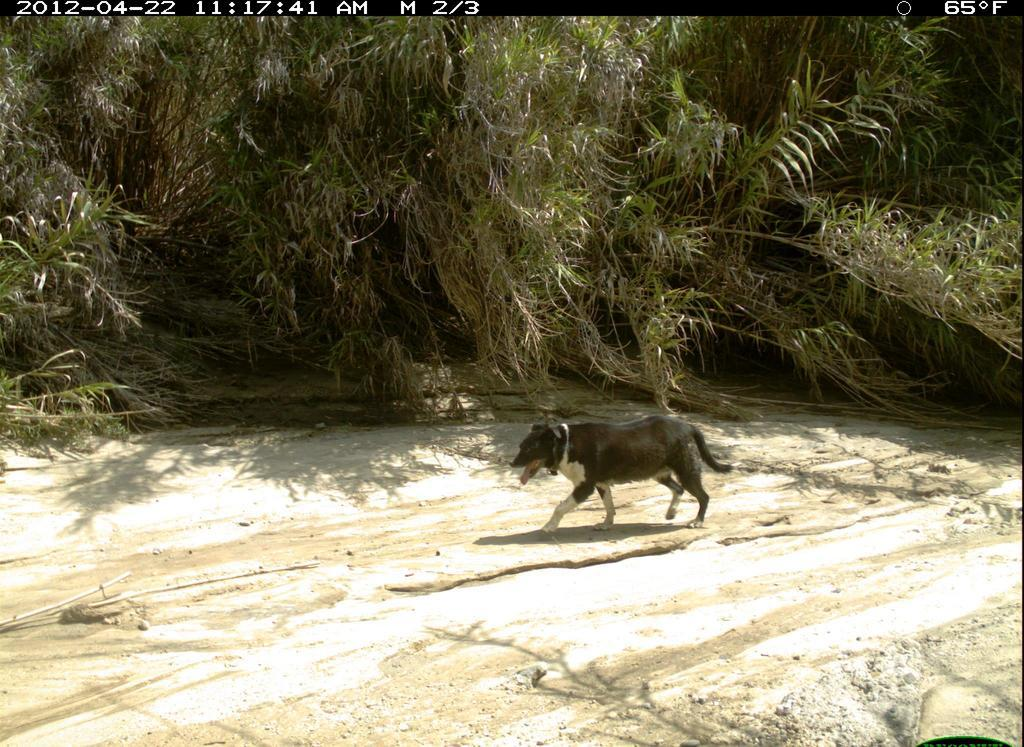dog: (491, 387, 726, 545)
